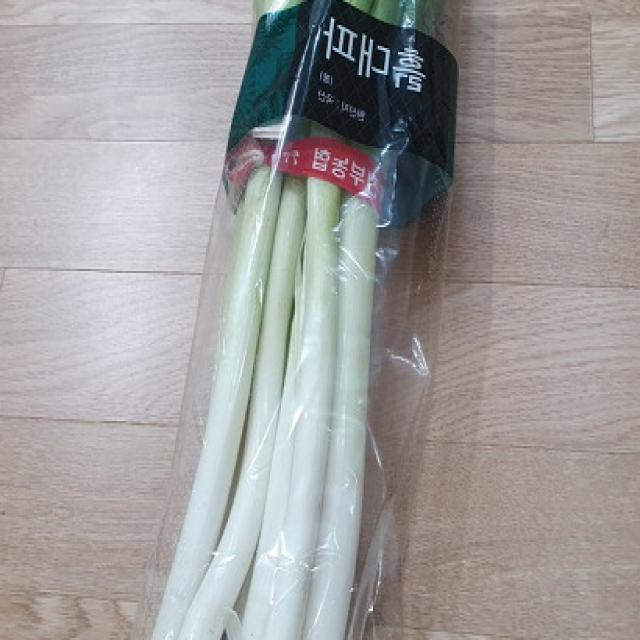greenonion: (108, 0, 443, 640)
